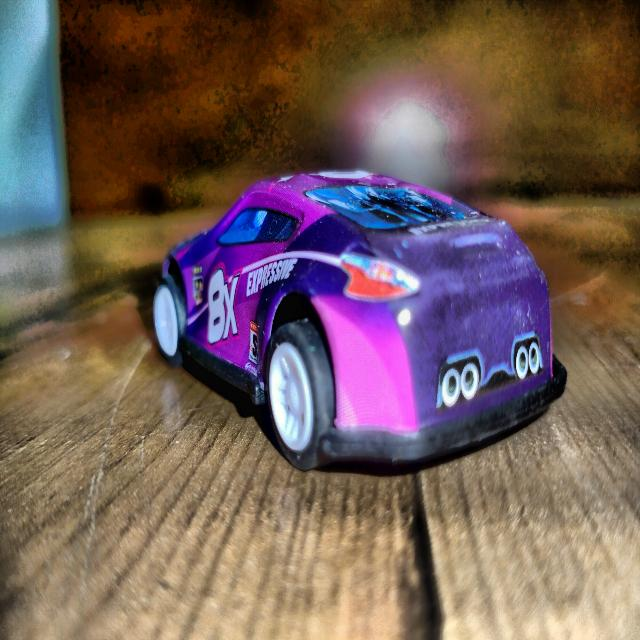Car: (153, 171, 566, 470)
